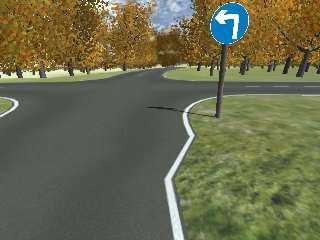left: (208, 3, 251, 43)
